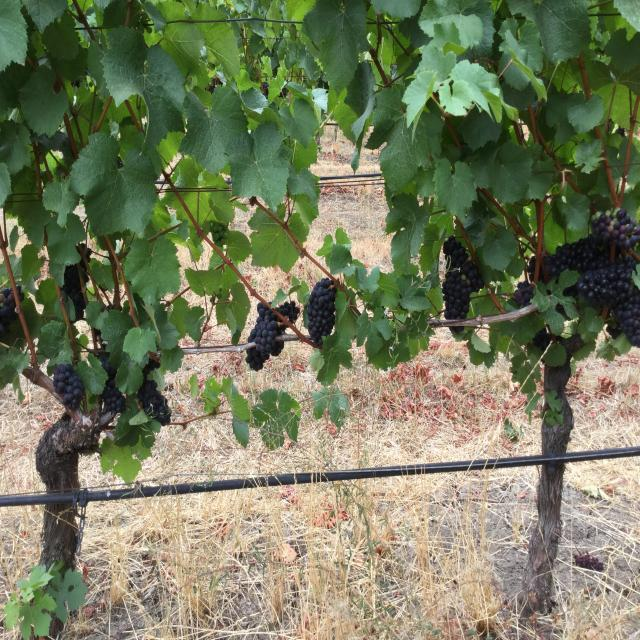grapes: (545, 208, 640, 347), (442, 235, 484, 320), (246, 302, 286, 372), (306, 278, 336, 347), (52, 363, 82, 410), (279, 300, 300, 323)
